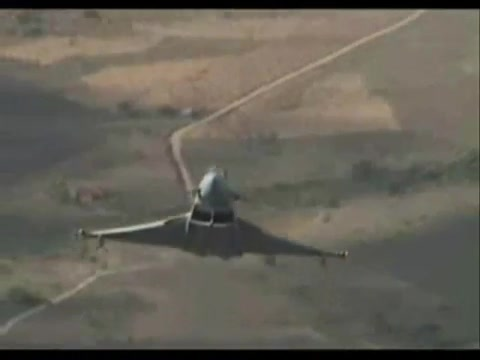aeroplane: (79, 169, 350, 267)
